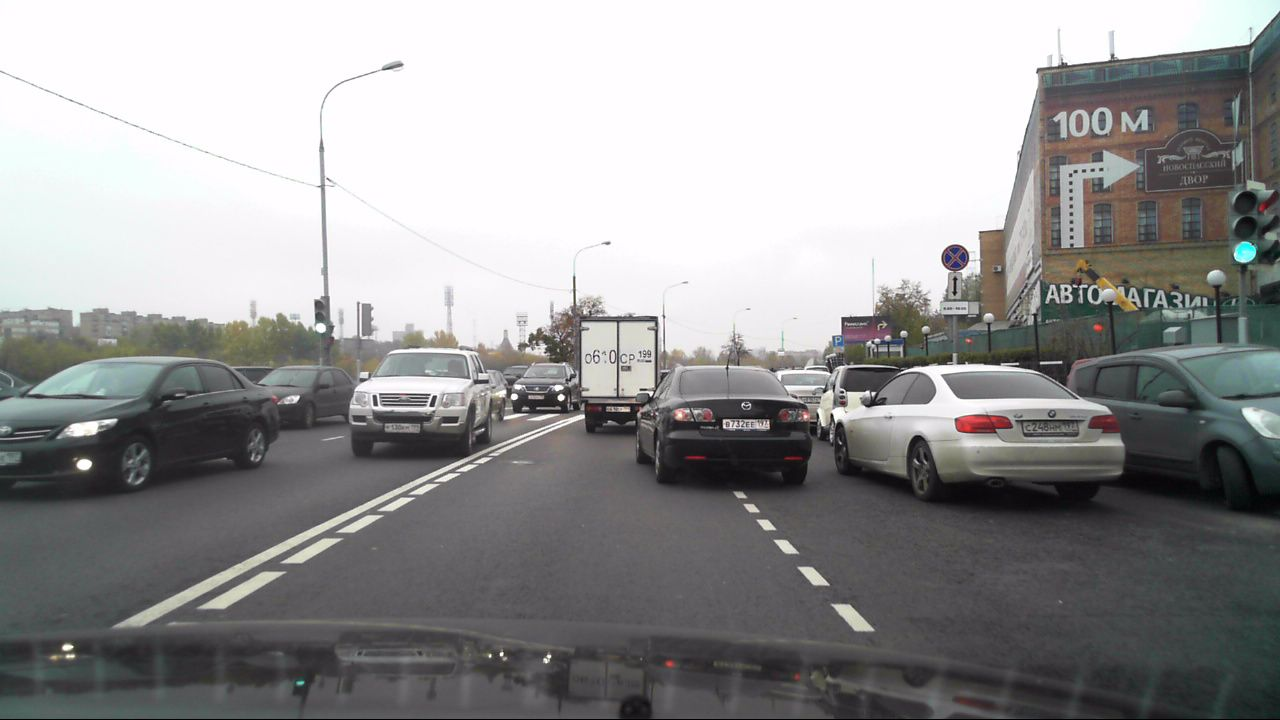No Parking: (940, 242, 969, 273)
